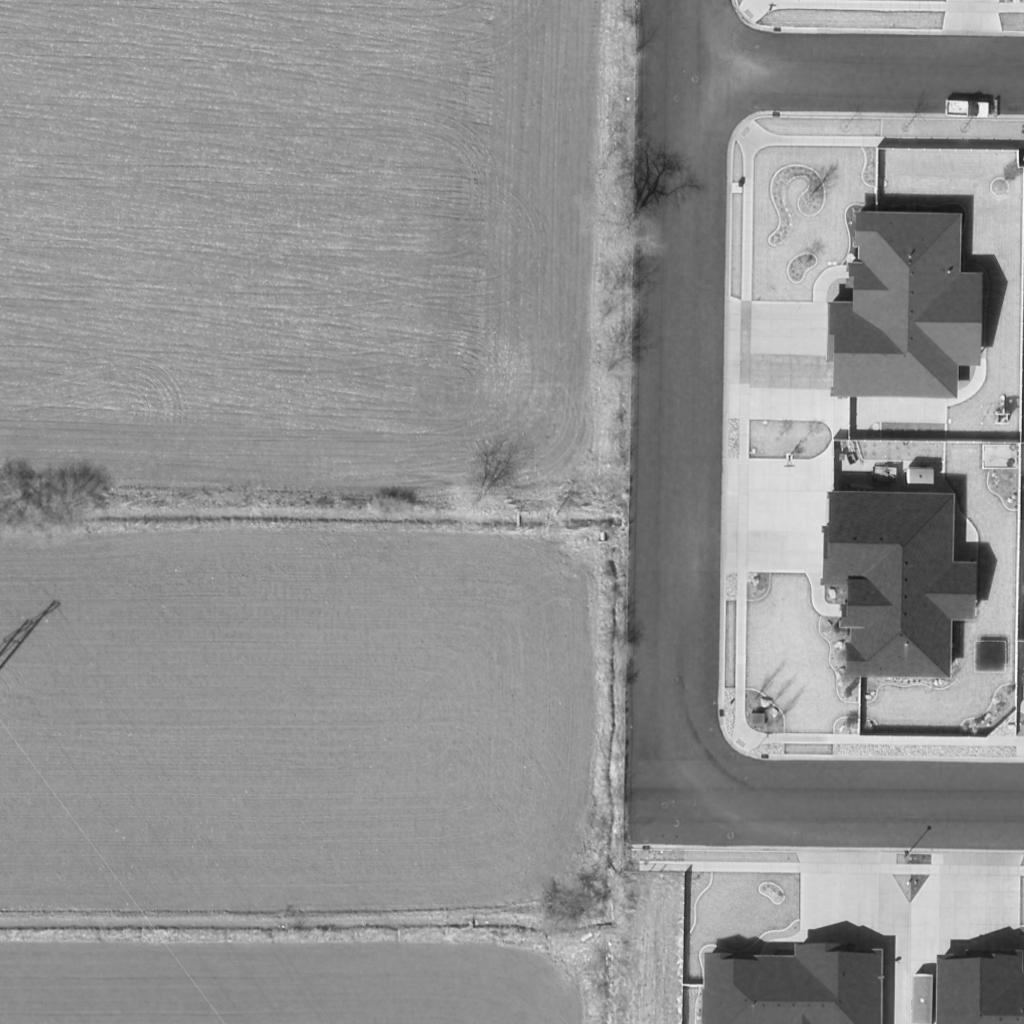vehicle: (943, 100, 991, 120)
